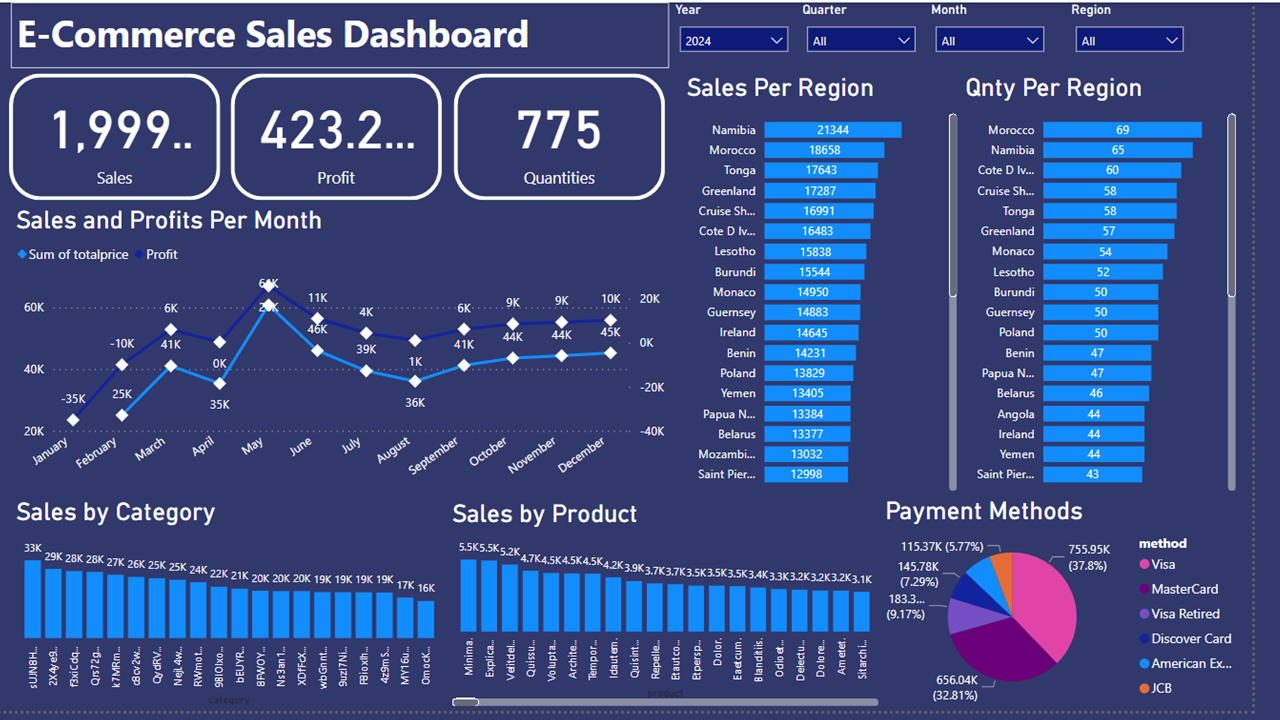

The dashboard page shown, as its layout file describes it:
{"tool":"powerbi","page":{"name":"Main","canvas":[1280,720],"ordinal":0},"visuals":[{"type":"cardVisual","title":"Sales","fields":{"Data":["Sum(payments.amount)"]},"box":[10.6,66.6,225.6,139.3],"z":0},{"type":"textbox","box":[18.2,0,669.3,66.6],"z":1000},{"type":"lineChart","title":"Sales and Profits Per Month","fields":{"Y":["Sum(carts.totalprice)"],"Category":["dates.date_of_act.Variation.Date Hierarchy.Month"],"Y2":["carts.Profit"]},"box":[18,205.8,669.5,296.8],"z":2000},{"type":"clusteredBarChart","title":"Sales Per Region","fields":{"Y":["Sum(carts.totalprice)"],"Category":["carts.country"]},"box":[699.1,71.7,284.8,430.2],"z":3000},{"type":"pieChart","title":"Payment Methods","fields":{"Category":["payments.method"],"Y":["Sum(payments.amount)"]},"box":[901.3,501.6,378.7,216.8],"z":4000},{"type":"clusteredColumnChart","title":"Sales by Category","fields":{"Category":["carts.category"],"Y":["Sum(carts.totalprice)"]},"box":[18,502.6,443.7,215.8],"z":5000},{"type":"slicer","title":"Year","fields":{"Values":["dates.date_of_act.Variation.Date Hierarchy.Year"]},"box":[687.4,0,130.2,66],"z":6000},{"type":"slicer","title":"Quarter","fields":{"Values":["dates.date_of_act.Variation.Date Hierarchy.Quarter"]},"box":[817.7,0,130.2,66],"z":7000},{"type":"slicer","title":"Month","fields":{"Values":["dates.date_of_act.Variation.Date Hierarchy.Month"]},"box":[947.9,0,130.2,66],"z":8000},{"type":"cardVisual","title":"Sales","fields":{"Data":["carts.Profit"]},"box":[236.2,66.6,225.6,139.3],"z":9000},{"type":"cardVisual","title":"Sales","fields":{"Data":["Sum(carts.qnty_paid)"]},"box":[461.8,66.6,225.6,139.3],"z":10000},{"type":"clusteredColumnChart","title":"Sales by Product","fields":{"Y":["Sum(carts.totalprice)"],"Category":["carts.product"]},"box":[461.6,504.6,443.7,215.8],"z":12001},{"type":"clusteredBarChart","title":"Qnty Per Region","fields":{"Category":["carts.country"],"Y":["Sum(carts.qnty)"]},"box":[983.9,71.7,284.8,430.2],"z":12002},{"type":"slicer","title":"Region","fields":{"Values":["carts.country"]},"box":[1091.5,0,129.5,65.7],"z":12003}]}

Visuals, with their boxes in screenshot pixels (x1, y1, x2, y2), scaled from the page's 1280x720 canvas onto the 1280x720 screenshot:
"Sales" cardVisual: 11:67:236:206
textbox: 18:0:688:67
"Sales and Profits Per Month" lineChart: 18:206:688:503
"Sales Per Region" clusteredBarChart: 699:72:984:502
"Payment Methods" pieChart: 901:502:1279:718
"Sales by Category" clusteredColumnChart: 18:503:462:718
"Year" slicer: 687:0:818:66
"Quarter" slicer: 818:0:948:66
"Month" slicer: 948:0:1078:66
"Sales" cardVisual: 236:67:462:206
"Sales" cardVisual: 462:67:687:206
"Sales by Product" clusteredColumnChart: 462:505:905:719
"Qnty Per Region" clusteredBarChart: 984:72:1269:502
"Region" slicer: 1092:0:1221:66
